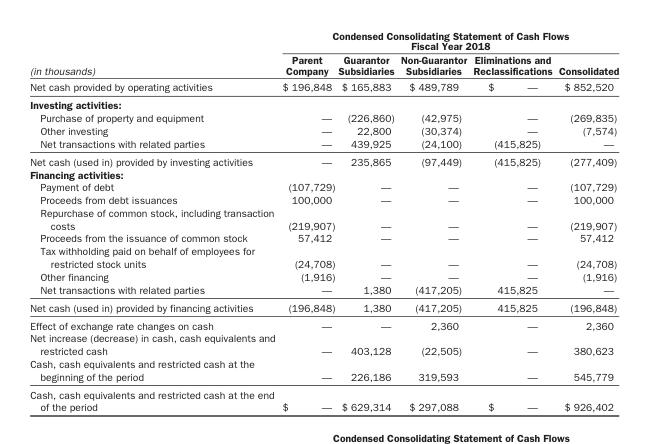table: (29, 29, 618, 413)
table column: (29, 29, 278, 413), (469, 29, 554, 413), (396, 29, 469, 413), (554, 29, 618, 413), (335, 29, 396, 413), (278, 29, 335, 413)
table column header: (29, 29, 618, 78)
table projected row header: (29, 95, 618, 111), (29, 167, 618, 180)
table row: (29, 357, 618, 385), (29, 385, 618, 413), (29, 52, 618, 78), (29, 244, 618, 270), (29, 331, 618, 357), (29, 206, 618, 231), (29, 29, 618, 52), (29, 298, 618, 316), (29, 78, 618, 95), (29, 95, 618, 111), (29, 136, 618, 152), (29, 282, 618, 298), (29, 152, 618, 167), (29, 316, 618, 331), (29, 111, 618, 124), (29, 167, 618, 180), (29, 180, 618, 193), (29, 193, 618, 206), (29, 231, 618, 244), (29, 124, 618, 136), (29, 270, 618, 282)
table spanning cell: (29, 29, 278, 78), (278, 29, 618, 52)
